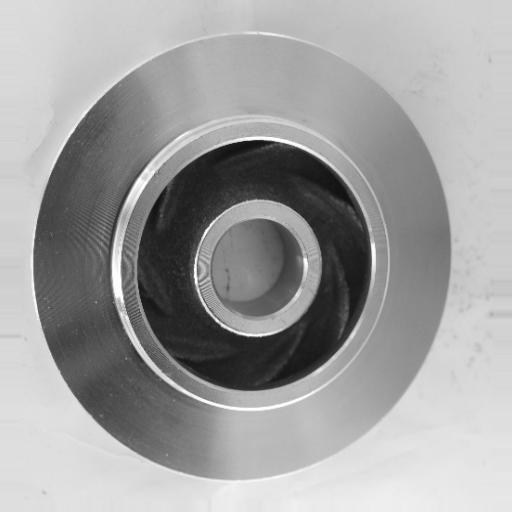polished_casting: (28, 29, 456, 482)
